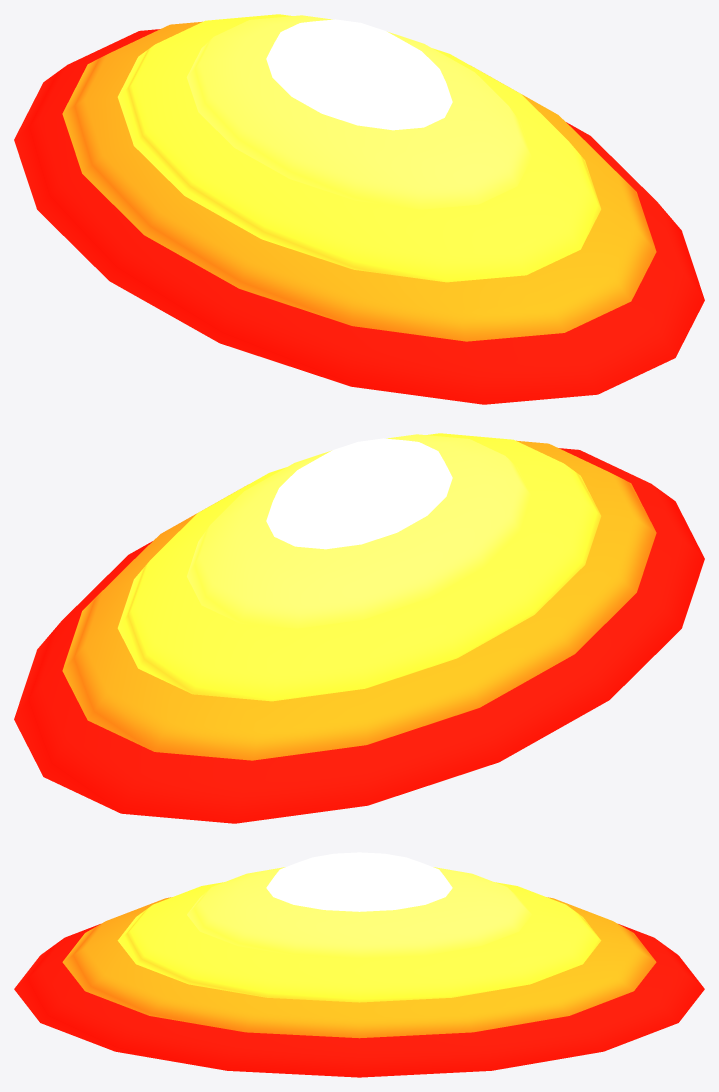
File: newshj-19.glb
The picture shows the model from 3 angles, top to bottom: view 1: azimuth 30°, elevation 25°; view 2: azimuth 150°, elevation 25°; view 3: azimuth 270°, elevation 25°; orthographic projection. The views are drawn at different scales.
Parts seen in each view (by area): view 1: newshj-19; view 2: newshj-19; view 3: newshj-19.
Boxes of the visible parts, left/top/right/bottom form: newshj-19: left=14, top=14, right=704, bottom=404; newshj-19: left=14, top=433, right=704, bottom=823; newshj-19: left=14, top=852, right=704, bottom=1077.
Bounding box in the file's own units: 0.7167 × 0.2412 × 1.18.
